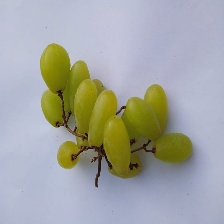grapes: (13, 8, 178, 176)
